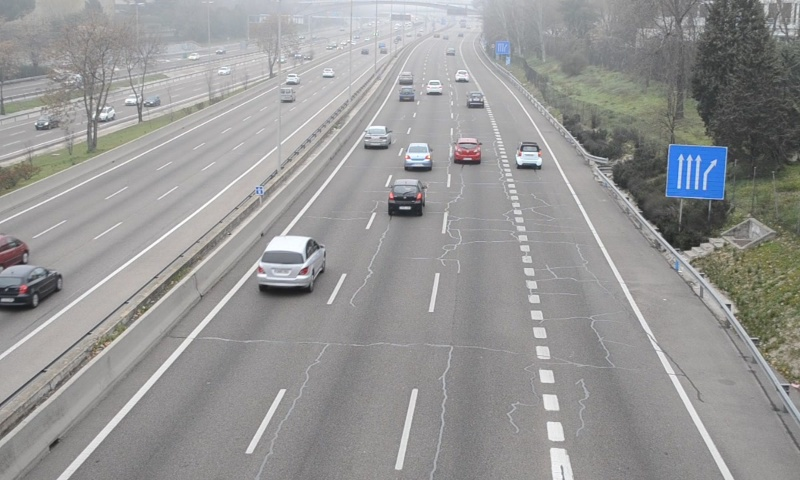car: (258, 236, 326, 289), (388, 177, 425, 219), (404, 142, 433, 172), (454, 136, 482, 164), (516, 141, 543, 169), (362, 124, 392, 149), (466, 91, 484, 109), (426, 78, 444, 95), (398, 86, 415, 102), (398, 70, 414, 85)
